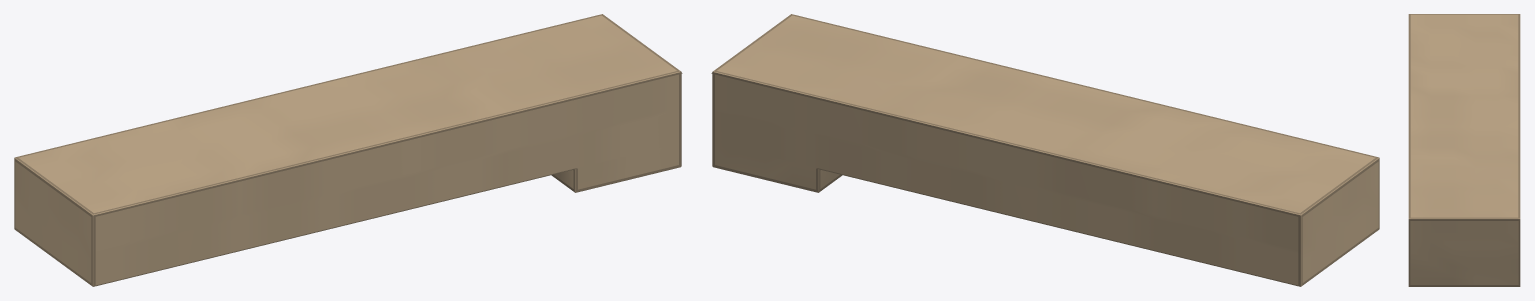
3 renders of one model, left to right at view 1: azimuth 30°, elevation 25°; view 2: azimuth 150°, elevation 25°; view 3: azimuth 270°, elevation 25°, orthographic. The views are drawn at different scales.
Parts seen in each view (by area): view 1: part-b; view 2: part-b; view 3: part-b.
Boxes of the visible parts, <box> form: part-b: <box>14,14,682,286</box>; part-b: <box>711,14,1379,286</box>; part-b: <box>1408,14,1520,286</box>.
Bounding box in the file's own units: 0.3914 × 0.0608 × 0.0908.
